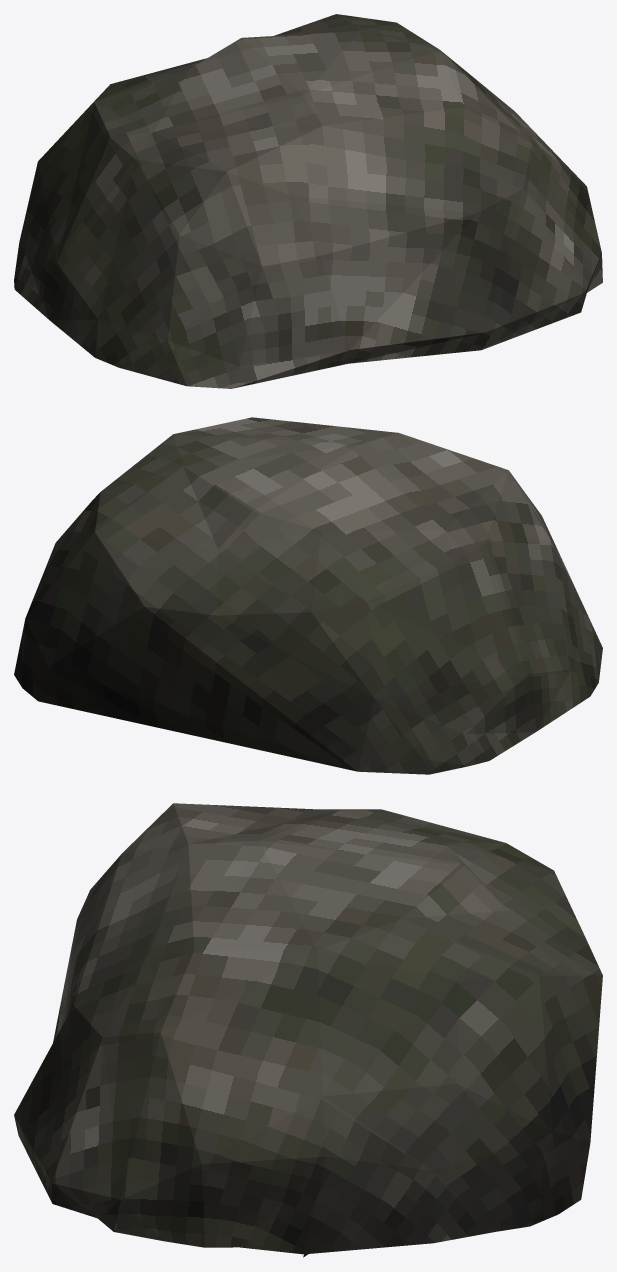
File: small_rocks_02.glb
3 renders of one model, top to bottom at view 1: azimuth 30°, elevation 25°; view 2: azimuth 150°, elevation 25°; view 3: azimuth 270°, elevation 25°, orthographic. The views are drawn at different scales.
Visible parts, largest first — view 1: small_rocks_02; view 2: small_rocks_02; view 3: small_rocks_02.
Boxes of the visible parts, <box> form: small_rocks_02: <box>14,14,602,388</box>; small_rocks_02: <box>14,417,602,774</box>; small_rocks_02: <box>14,803,602,1257</box>.
Size of the model in its own units: 4.53 by 1.79 by 3.81.
Materials: 1 (1 with a texture image).
